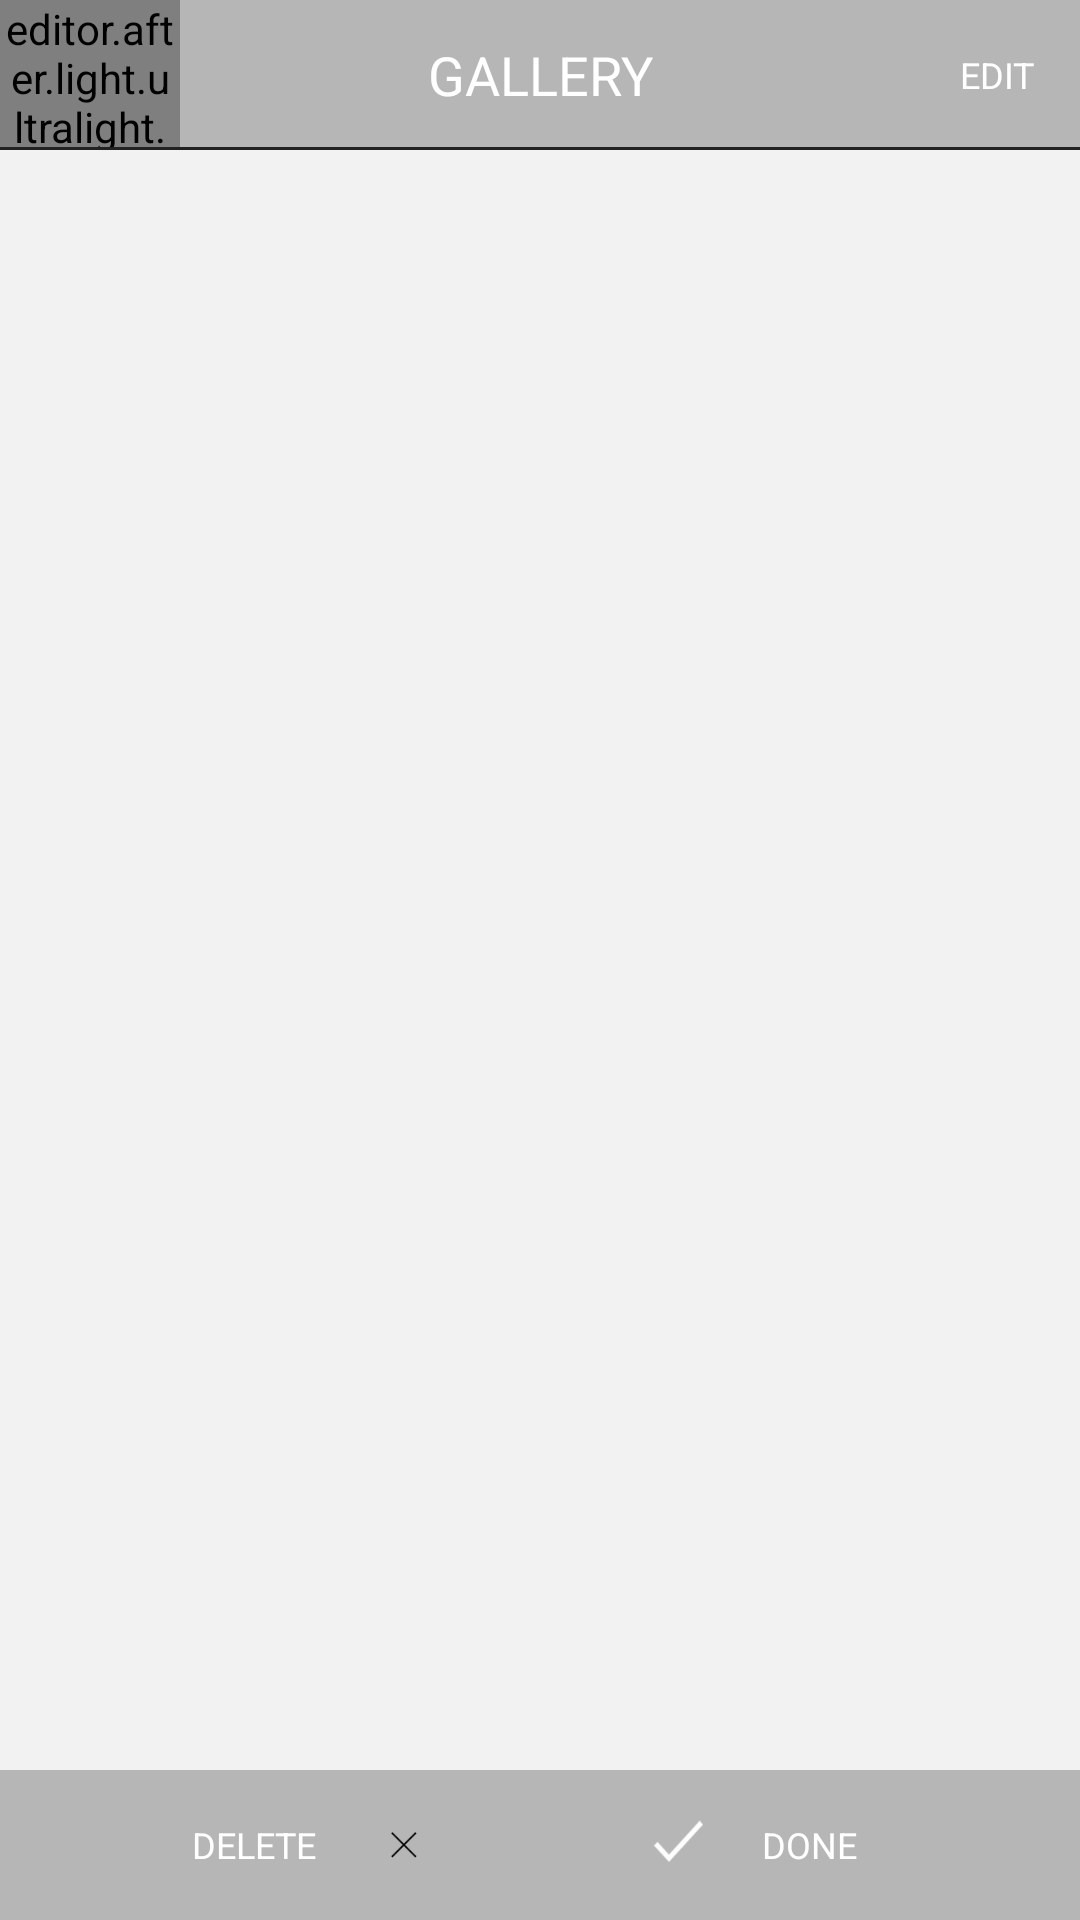

Where icons sit on this 1080 x 1920 app screen, as (x1,y1,x2,y2):
cancel: (391,1832,417,1858)
